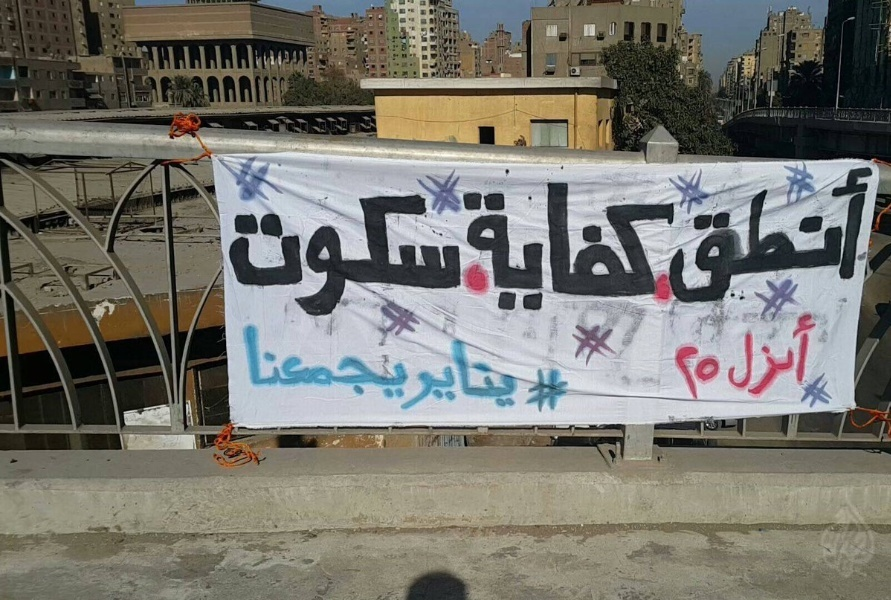text: (705, 167, 720, 308), (721, 167, 736, 308), (737, 167, 752, 308), (753, 167, 768, 308), (769, 167, 784, 308), (785, 167, 800, 308), (801, 167, 816, 308), (817, 167, 832, 308), (833, 167, 848, 308), (849, 167, 864, 308), (465, 180, 480, 311), (481, 180, 496, 311), (497, 180, 512, 311), (513, 180, 528, 311), (529, 180, 544, 311), (545, 180, 560, 311), (561, 180, 576, 311), (577, 180, 592, 311), (593, 180, 608, 311), (609, 180, 624, 311), (625, 180, 640, 311), (641, 180, 656, 311), (657, 180, 672, 311), (241, 193, 256, 319), (257, 193, 272, 319), (273, 193, 288, 319), (289, 193, 304, 319), (305, 193, 320, 319), (321, 193, 336, 319), (337, 193, 352, 319), (353, 193, 368, 319), (369, 193, 384, 319), (385, 193, 400, 319), (401, 193, 416, 319), (417, 193, 432, 319), (433, 193, 448, 319), (228, 193, 240, 319), (449, 193, 460, 319), (801, 313, 817, 399), (737, 313, 752, 399), (753, 313, 768, 399), (769, 313, 784, 399), (785, 313, 800, 399), (865, 167, 874, 308), (241, 323, 256, 398), (257, 323, 272, 398), (273, 323, 288, 398), (289, 323, 304, 398), (305, 323, 320, 398), (321, 323, 336, 398), (337, 323, 352, 398), (353, 323, 368, 398), (369, 323, 384, 398), (385, 323, 400, 398), (417, 340, 432, 412), (433, 340, 448, 412), (449, 340, 464, 412), (465, 340, 480, 412), (481, 340, 496, 412), (497, 340, 512, 412), (673, 180, 681, 311), (705, 340, 721, 403), (673, 340, 688, 403), (689, 340, 704, 403), (458, 180, 464, 311), (728, 313, 736, 399), (513, 340, 522, 412), (701, 167, 704, 308), (401, 323, 406, 398), (238, 323, 240, 398)
